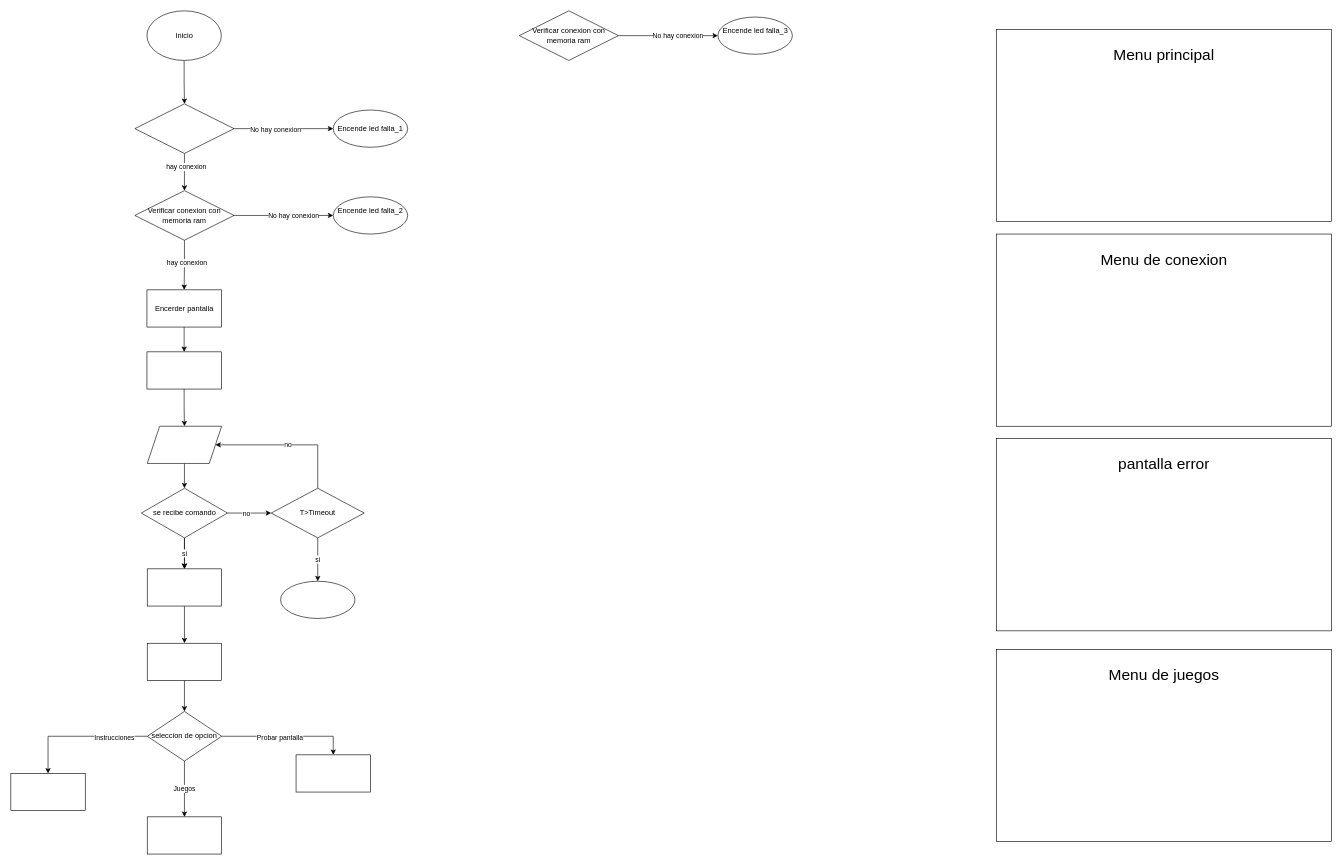
Some shapes in this 1342 by 865 pixel diagram are drawn without their labels. Each missing label, with the centre of its shape:
"Esperar comando inicial" belongs at point (184, 444).
"Mostrar menu de conexion" belongs at point (183, 370).
"Mostrar menu de juegos" belongs at point (184, 835).
"Mostrar menu principal" belongs at point (184, 661).
"Mostrar pantalla de error" belongs at point (317, 599).
"Reproducir sonido de prueba" belongs at point (184, 587).
"Verificar conexion con memoria flash" belongs at point (184, 128).
